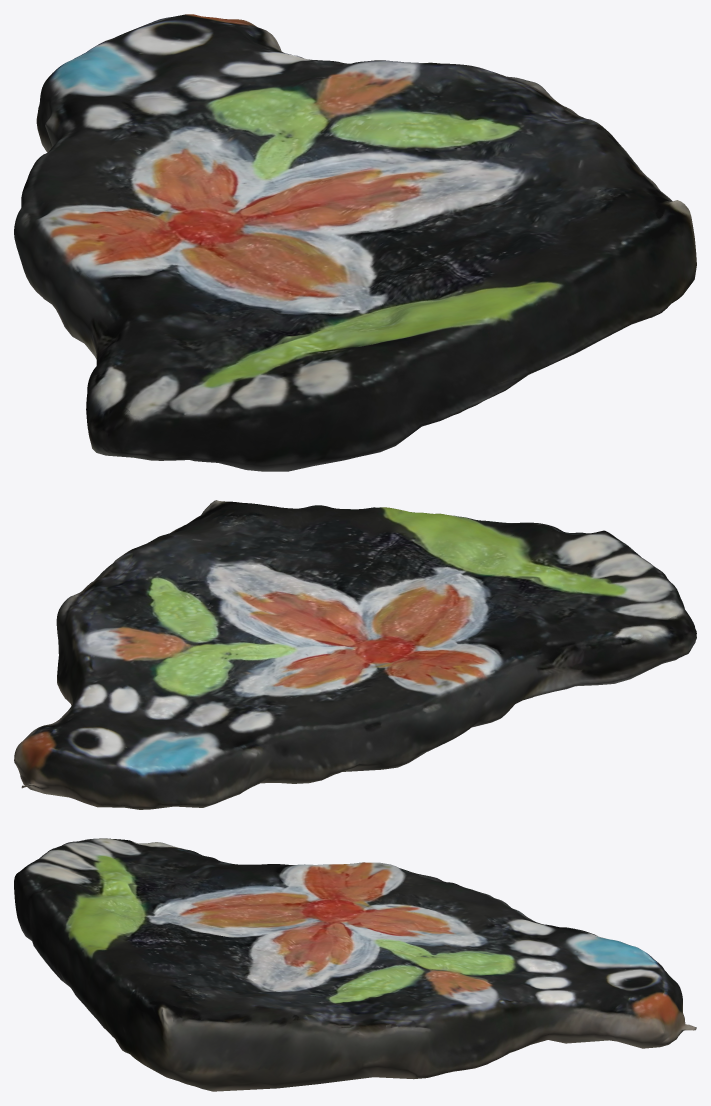
3 views of the same model, one above another, from view 1: azimuth 30°, elevation 25°; view 2: azimuth 150°, elevation 25°; view 3: azimuth 270°, elevation 25° (orthographic). The views are drawn at different scales.
Size of the model in its own units: 0.5721 by 0.1001 by 0.7345.
Materials: 1 (1 with a texture image).
